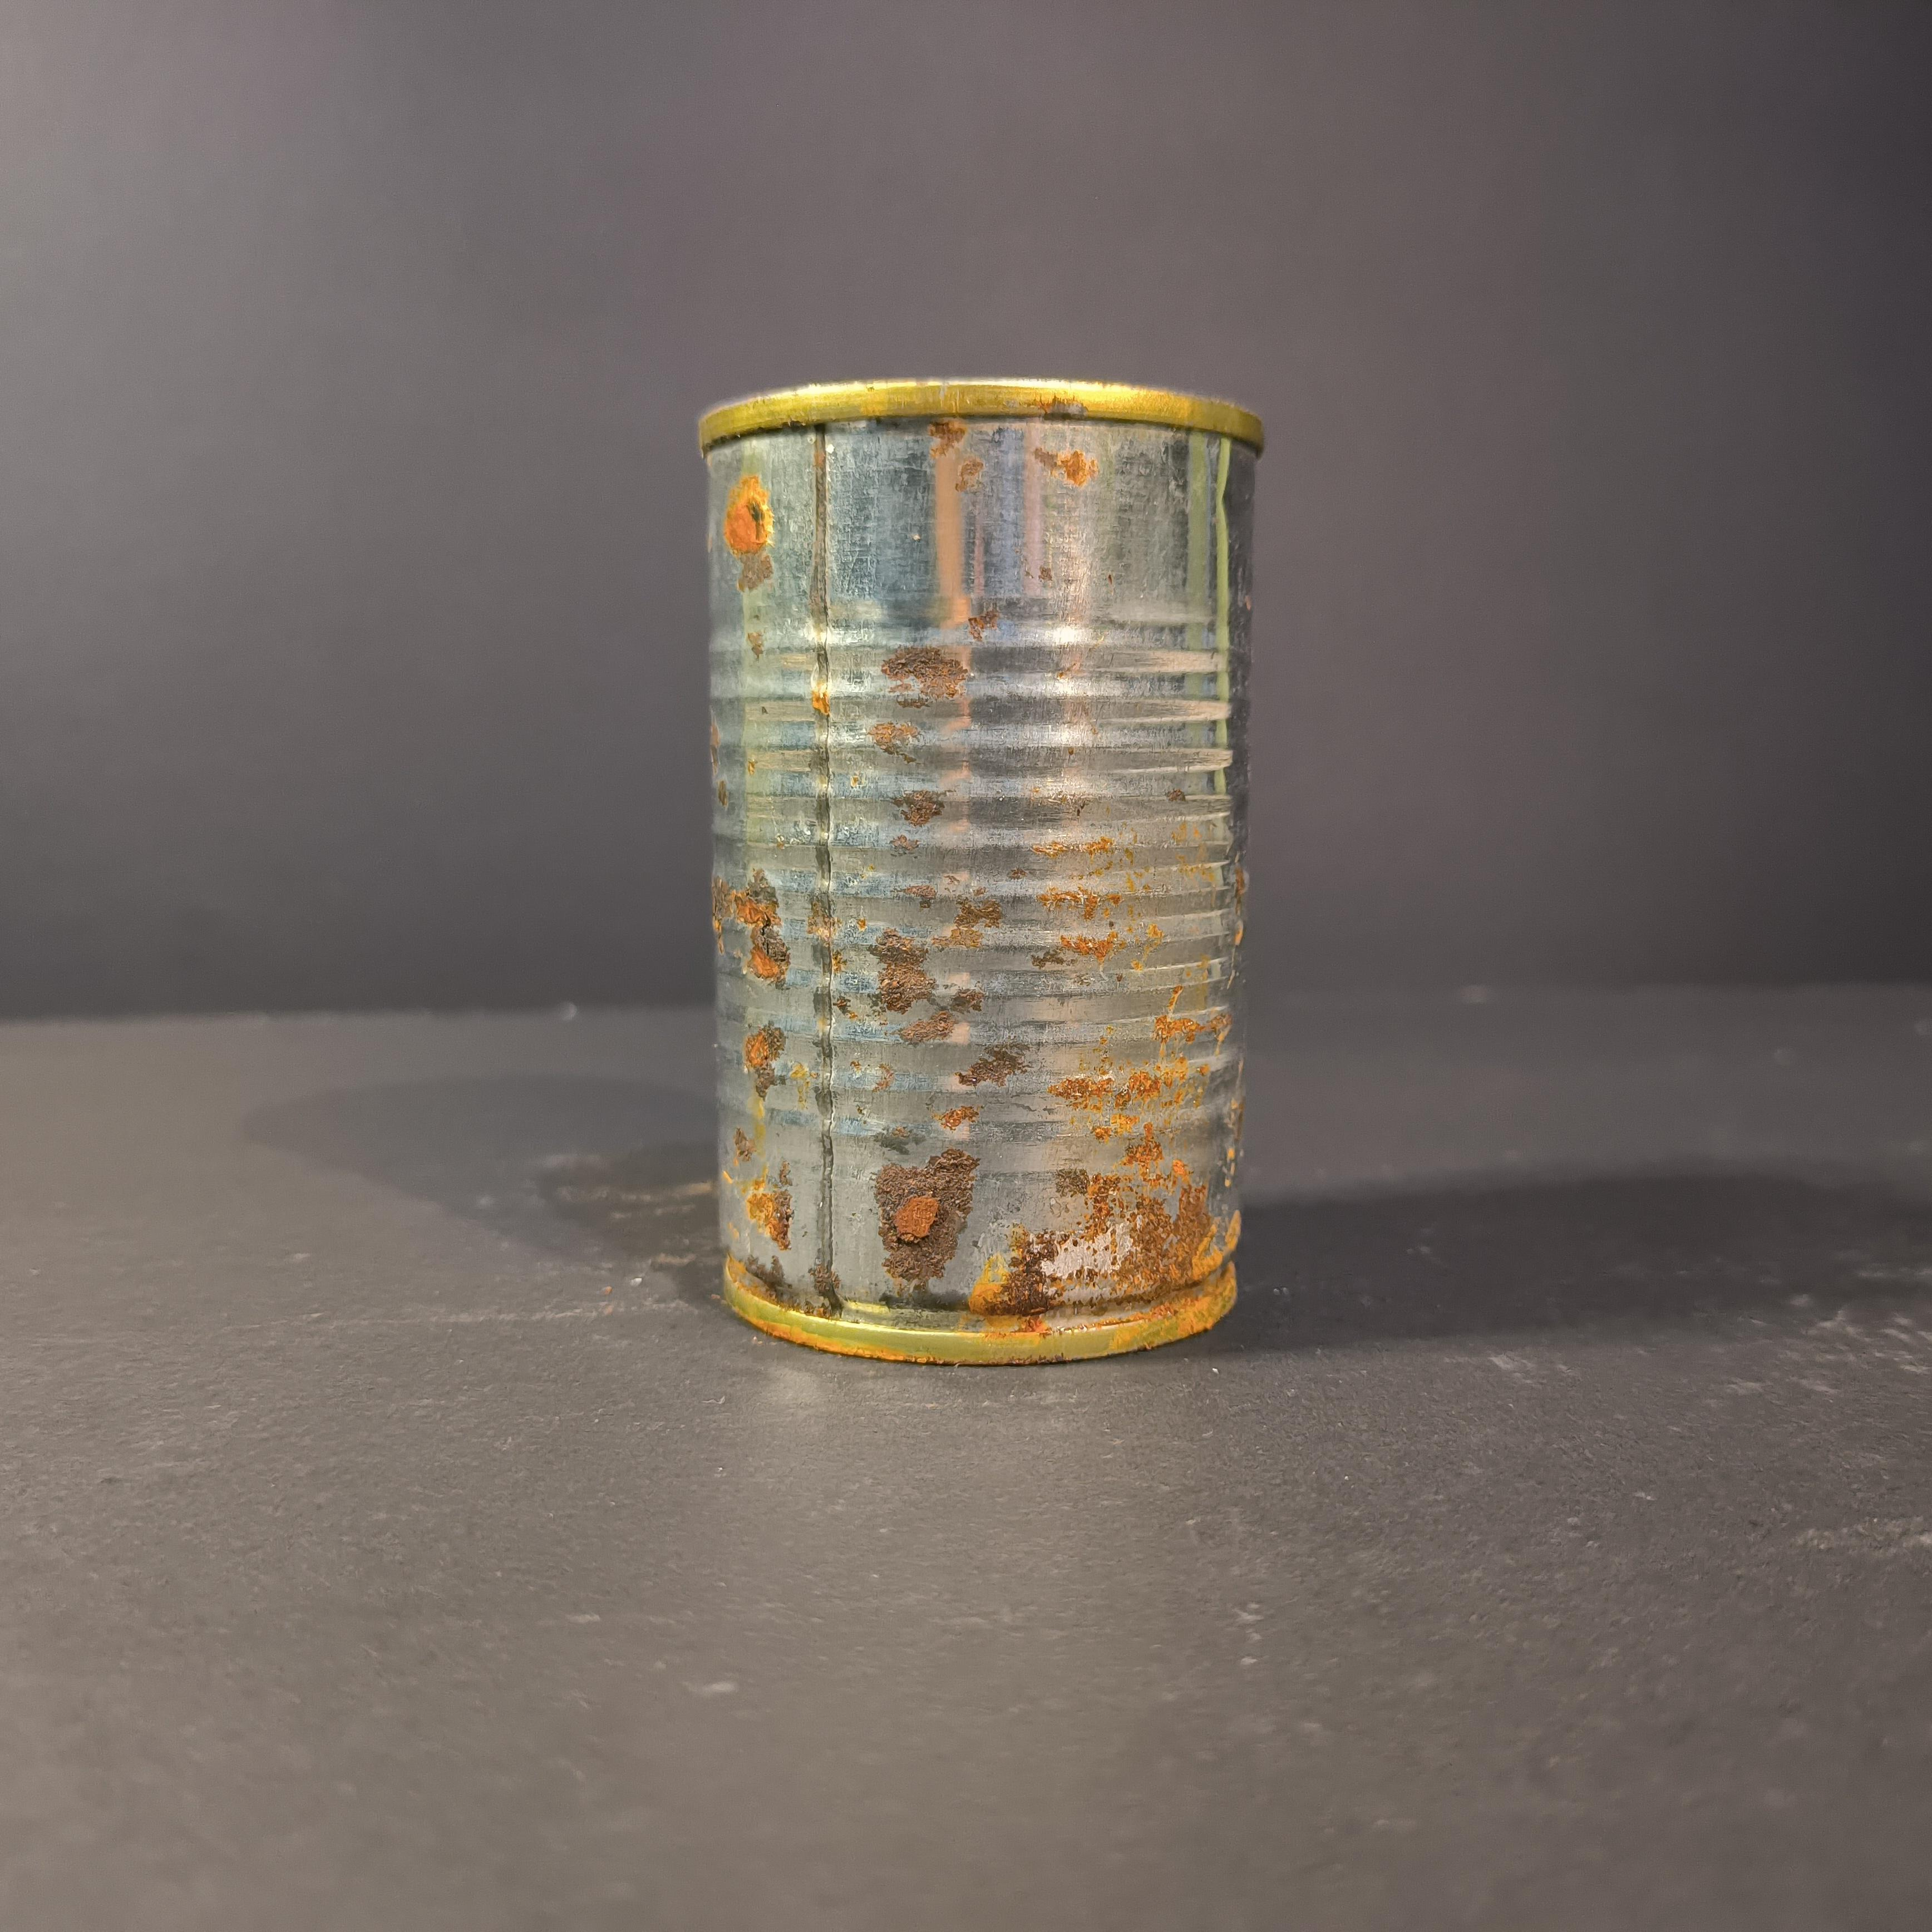Rusted: (676, 354, 1279, 1371)
